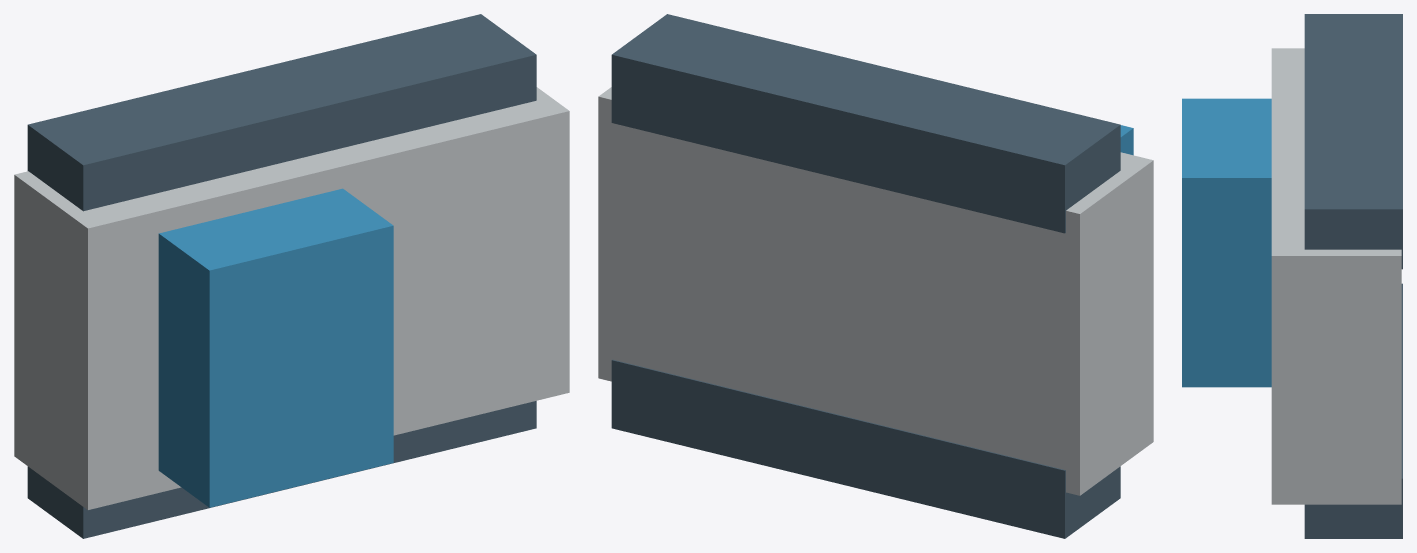
The model's file is u_ambulance.glb.
The picture shows the model from 3 angles, left to right: view 1: azimuth 30°, elevation 25°; view 2: azimuth 150°, elevation 25°; view 3: azimuth 270°, elevation 25°; orthographic projection. The views are drawn at different scales.
Visible parts, largest first — view 1: chassis, cab, track_1.03, track_-1.03; view 2: chassis, track_1.03, track_-1.03; view 3: chassis, cab, track_1.03, track_-1.03.
Part boxes in pixels (bbox=[...]): chassis: bbox=[14, 87, 569, 509]; cab: bbox=[158, 188, 393, 507]; track_1.03: bbox=[27, 14, 536, 211]; track_-1.03: bbox=[27, 401, 536, 538]; chassis: bbox=[598, 87, 1153, 495]; track_1.03: bbox=[611, 14, 1120, 233]; track_-1.03: bbox=[611, 359, 1120, 538]; chassis: bbox=[1271, 48, 1401, 504]; cab: bbox=[1182, 98, 1271, 387]; track_1.03: bbox=[1304, 14, 1402, 269]; track_-1.03: bbox=[1304, 283, 1402, 538].
Size of the model in its own units: 3.4 by 2.52 by 1.53.
